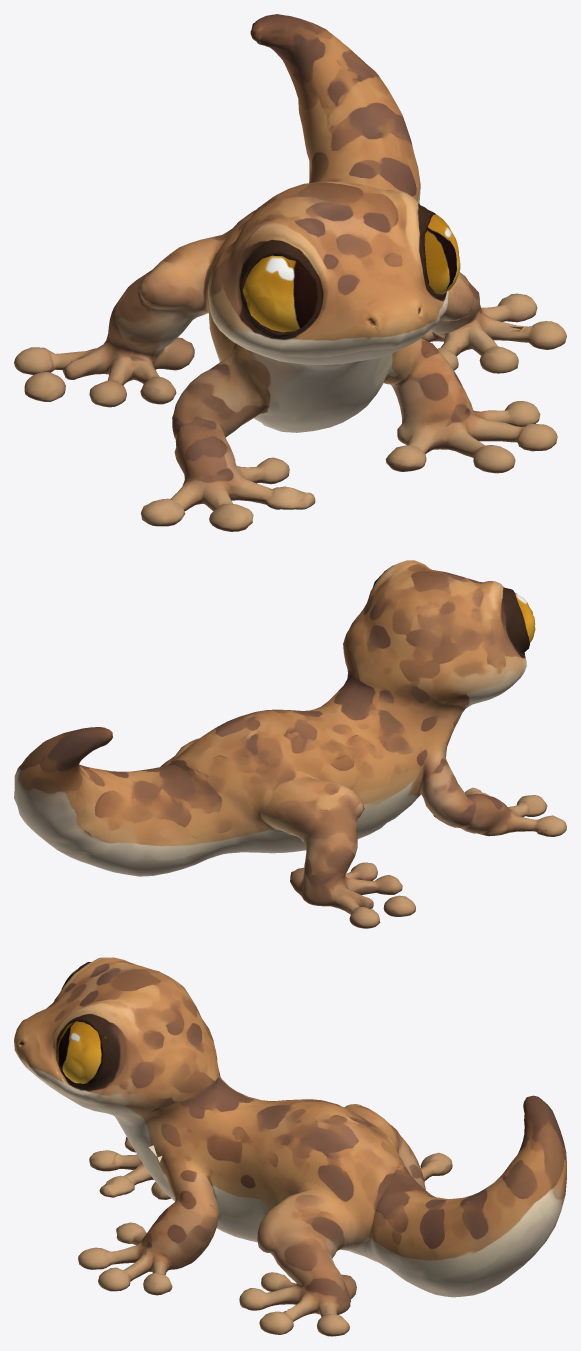
The picture shows the model from 3 angles, top to bottom: view 1: azimuth 30°, elevation 25°; view 2: azimuth 150°, elevation 25°; view 3: azimuth 270°, elevation 25°; orthographic projection. The views are drawn at different scales.
Parts seen in each view (by area): view 1: geometry_0; view 2: geometry_0; view 3: geometry_0.
Boxes of the visible parts, left/top/right/bottom form: geometry_0: left=14, top=14, right=566, bottom=531; geometry_0: left=14, top=560, right=566, bottom=928; geometry_0: left=14, top=957, right=566, bottom=1336.
Bounding box in the file's own units: 0.8047 × 0.4468 × 0.9487.
Materials: 1 (1 with a texture image).
